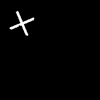single_crochet: (10, 11, 33, 34)
